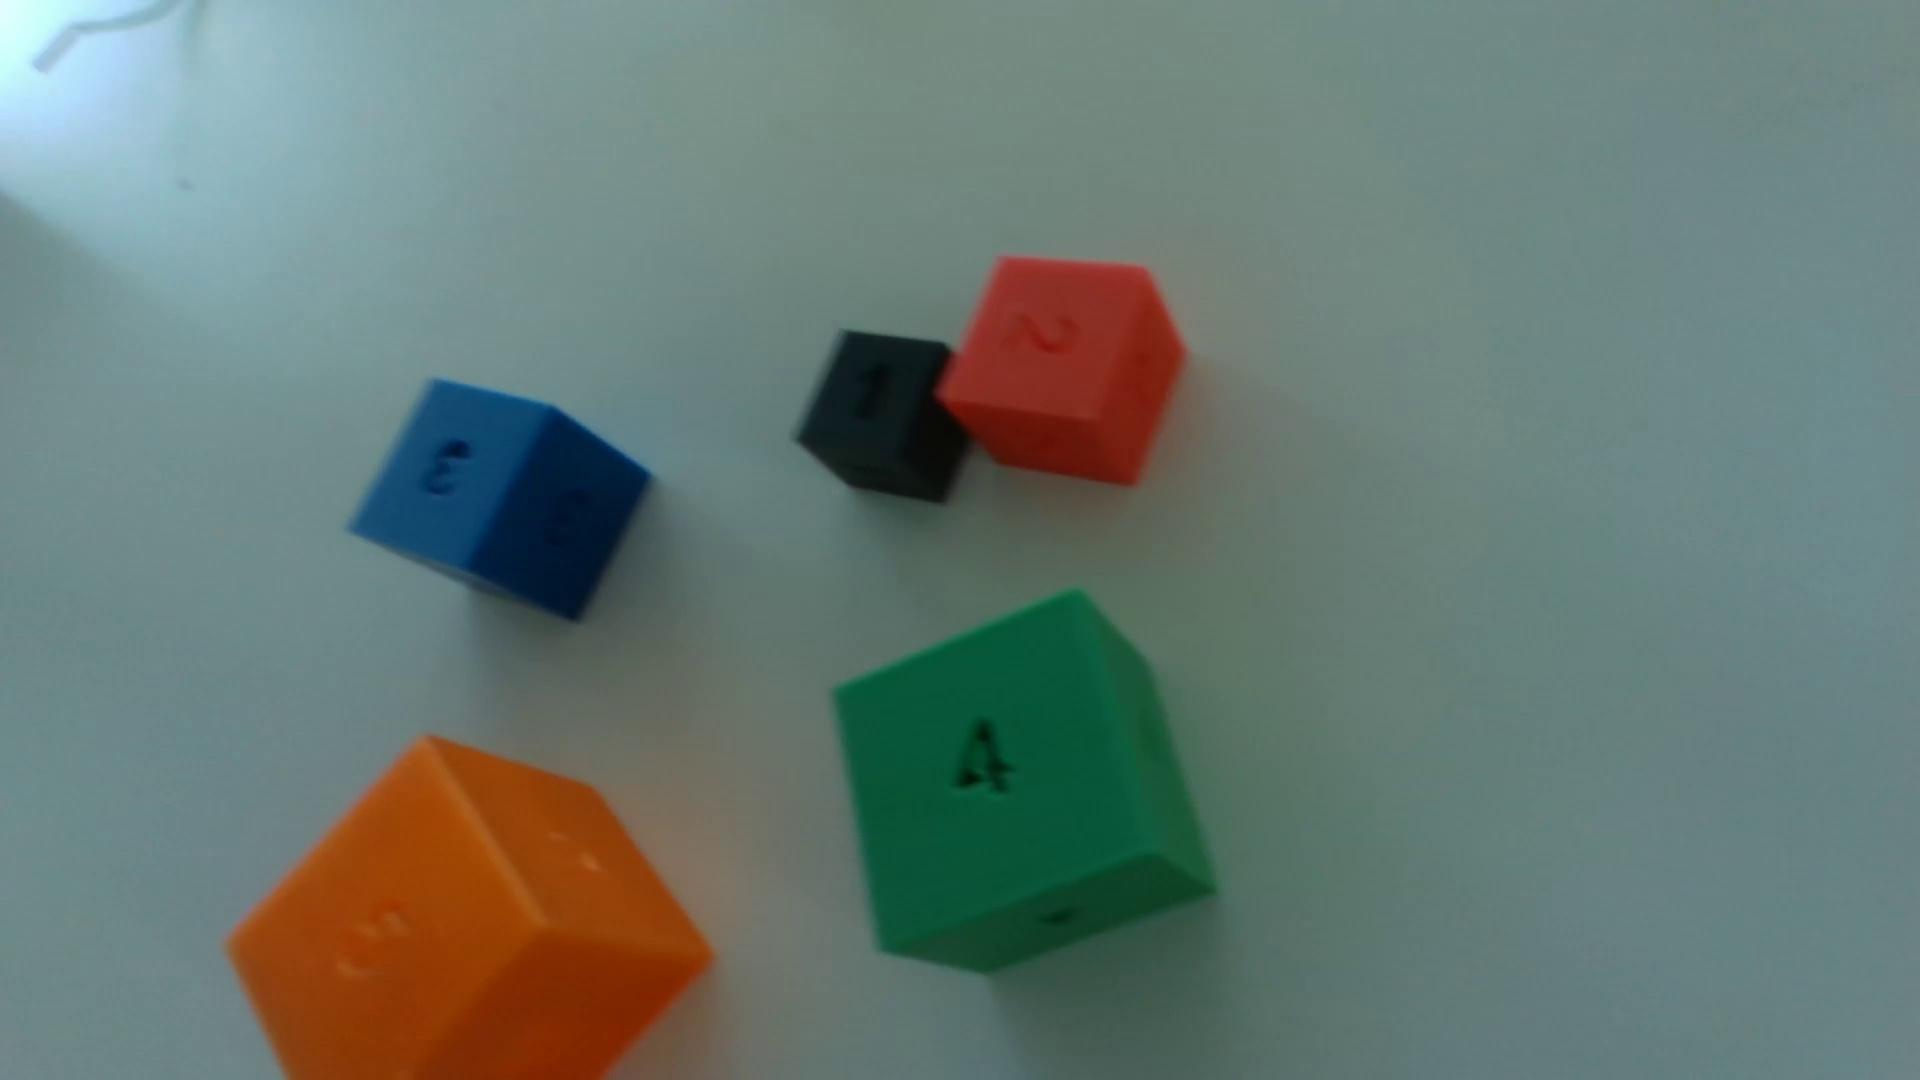black: (795, 331, 969, 506)
blue: (349, 381, 650, 622)
green: (835, 593, 1216, 975)
orange: (228, 738, 713, 1080)
red: (938, 258, 1185, 487)
